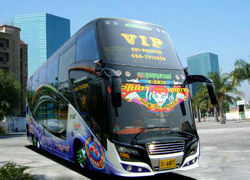bus: (24, 17, 201, 178)
